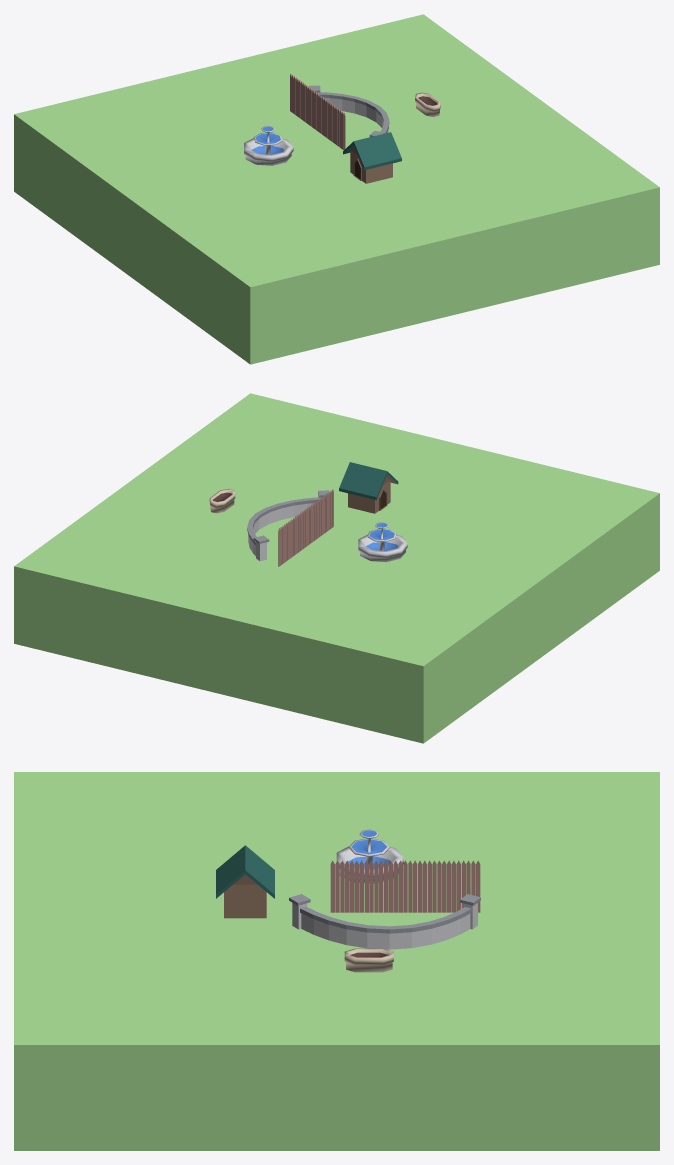
File: Backyard.fbx
3 views of the same model, one above another, from view 1: azimuth 30°, elevation 25°; view 2: azimuth 150°, elevation 25°; view 3: azimuth 270°, elevation 25° (orthographic). The views are drawn at different scales.
Visible parts, largest first — view 1: Backyard Base - Ground., Fence 1, Dog House, Chair, Fountain - Base; view 2: Backyard Base - Ground., Fence 1, Dog House, Chair, Fountain - Base; view 3: Backyard Base - Ground., Fence 1, Chair, Dog House, Flowerpot, Fountain - Base, Fountain - Pilar.
Part boxes in pixels (<box>): Backyard Base - Ground.: <box>14,14,659,364</box>; Fence 1: <box>290,73,345,150</box>; Dog House: <box>343,132,401,183</box>; Chair: <box>318,92,389,133</box>; Fountain - Base: <box>244,138,293,165</box>; Backyard Base - Ground.: <box>14,393,659,743</box>; Fence 1: <box>278,489,333,566</box>; Dog House: <box>339,462,398,513</box>; Chair: <box>247,497,319,555</box>; Fountain - Base: <box>358,534,407,562</box>; Backyard Base - Ground.: <box>14,772,659,1150</box>; Fence 1: <box>330,860,480,912</box>; Chair: <box>300,906,471,949</box>; Dog House: <box>216,845,274,918</box>; Flowerpot: <box>344,948,393,972</box>; Fountain - Base: <box>336,846,403,883</box>; Fountain - Pilar: <box>348,829,389,867</box>.
Size of the model in its own units: 12857 by 3468 by 12857.
